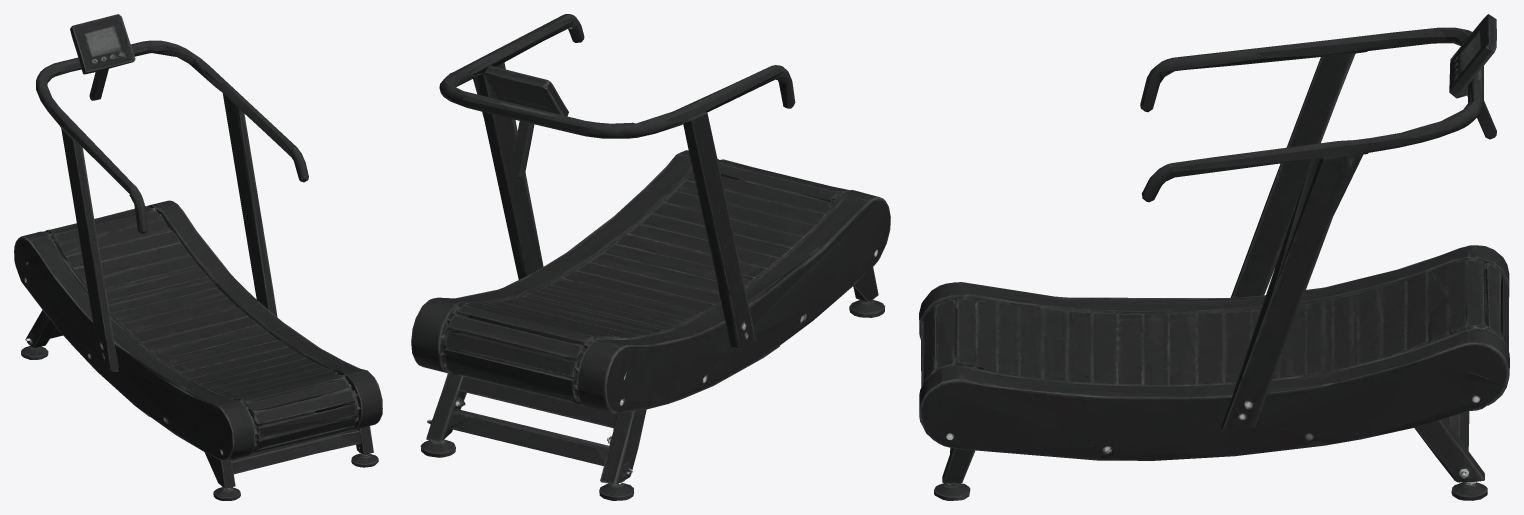
The model's file is hf-curved-treadmill.glb.
3 views of the same model, side by side, from view 1: azimuth 30°, elevation 25°; view 2: azimuth 150°, elevation 25°; view 3: azimuth 270°, elevation 25° (orthographic). The views are drawn at different scales.
Visible parts, largest first — view 1: Mesh_0; view 2: Mesh_0; view 3: Mesh_0.
Part boxes in pixels (left/top/right/bottom): Mesh_0: left=14, top=14, right=382, bottom=500; Mesh_0: left=411, top=14, right=890, bottom=500; Mesh_0: left=919, top=14, right=1509, bottom=500.
Size of the model in its own units: 0.8496 by 1.49 by 1.9.
1 material, 1 textured.
